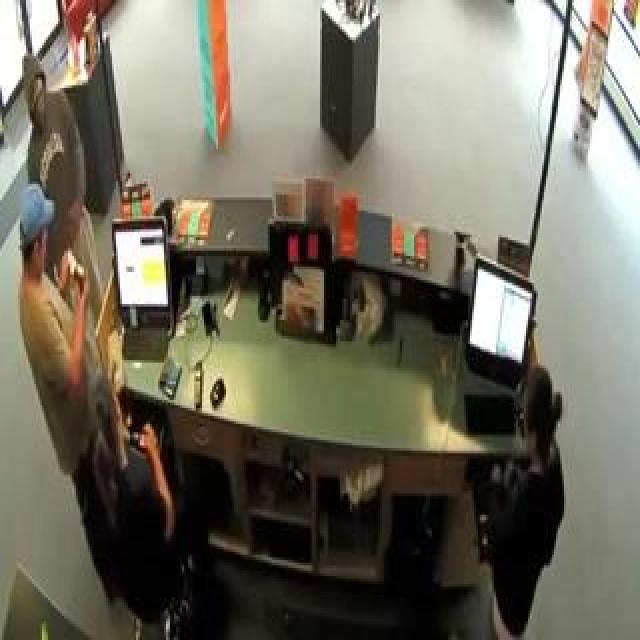high_con: (19, 54, 59, 140)
low_con: (10, 174, 54, 286)
no_con: (519, 371, 571, 477), (88, 379, 136, 472)
